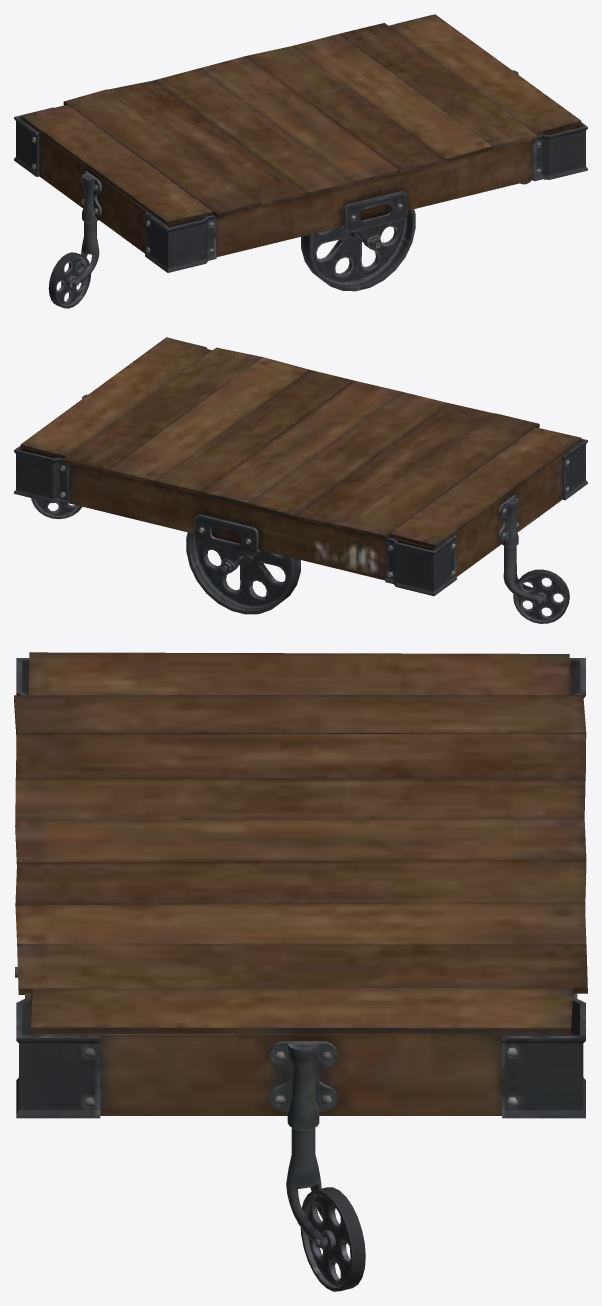
Rendered from SM_Rustic_CoffeeTable_e6aa69.glb.
The picture shows the model from 3 angles, top to bottom: view 1: azimuth 30°, elevation 25°; view 2: azimuth 150°, elevation 25°; view 3: azimuth 270°, elevation 25°; orthographic projection. The views are drawn at different scales.
Size of the model in its own units: 1.59 by 0.3771 by 0.8288.
1 material, 1 textured.
